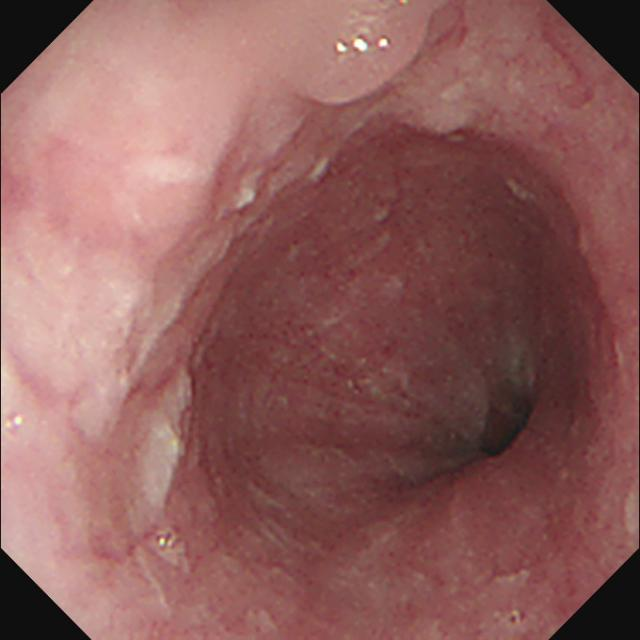A: (233, 306, 406, 414), (556, 230, 636, 392), (525, 14, 598, 124), (525, 488, 593, 603)
J: (138, 367, 197, 508), (228, 172, 261, 210)
U: (333, 38, 369, 56)
